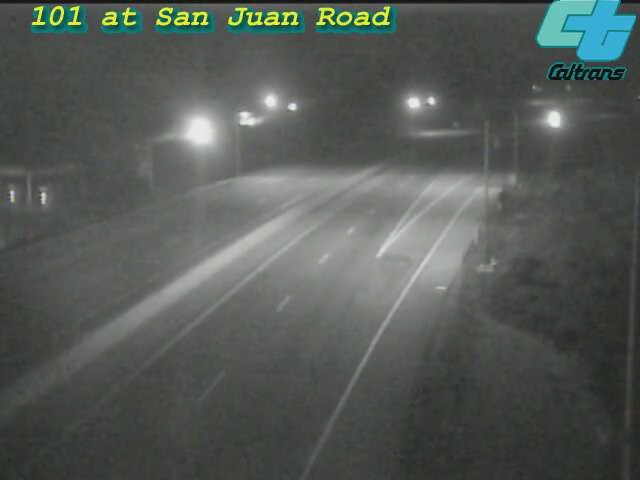vehicle: (525, 96, 575, 146)
